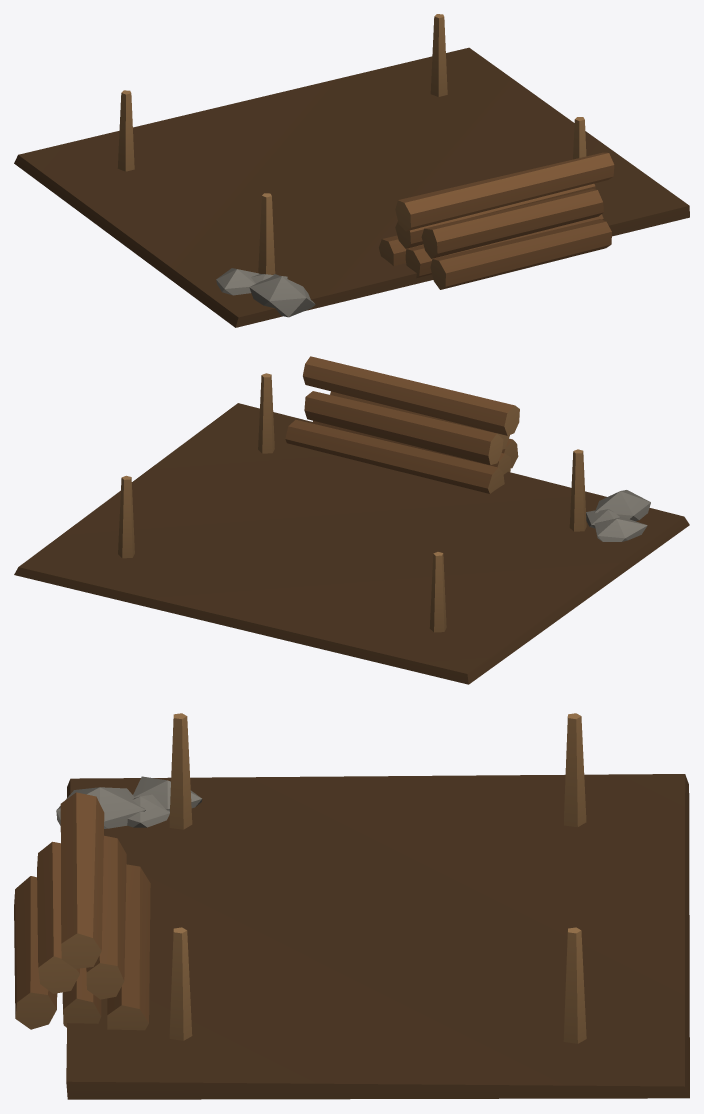
File: house_2_s0.glb
3 views of the same model, one above another, from view 1: azimuth 30°, elevation 25°; view 2: azimuth 150°, elevation 25°; view 3: azimuth 270°, elevation 25° (orthographic). The views are drawn at different scales.
Visible parts, largest first — view 1: house_2_s0; view 2: house_2_s0; view 3: house_2_s0.
Boxes of the visible parts, x1,y1,x2,y2 form: house_2_s0: (14, 14, 689, 327); house_2_s0: (14, 356, 689, 684); house_2_s0: (14, 713, 689, 1099).
Bounding box in the file's own units: 1.97 × 0.3568 × 1.8.
